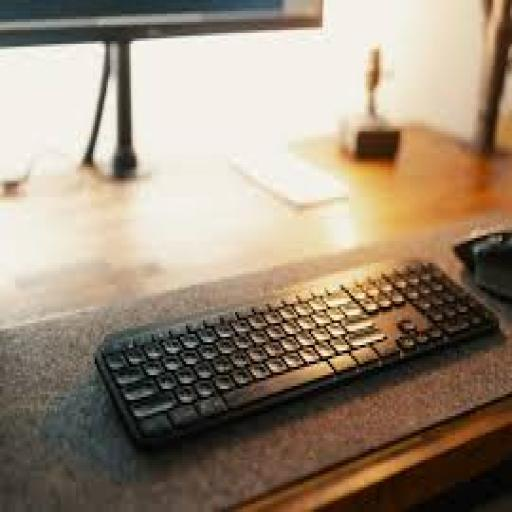keyboard: (97, 260, 499, 444)
